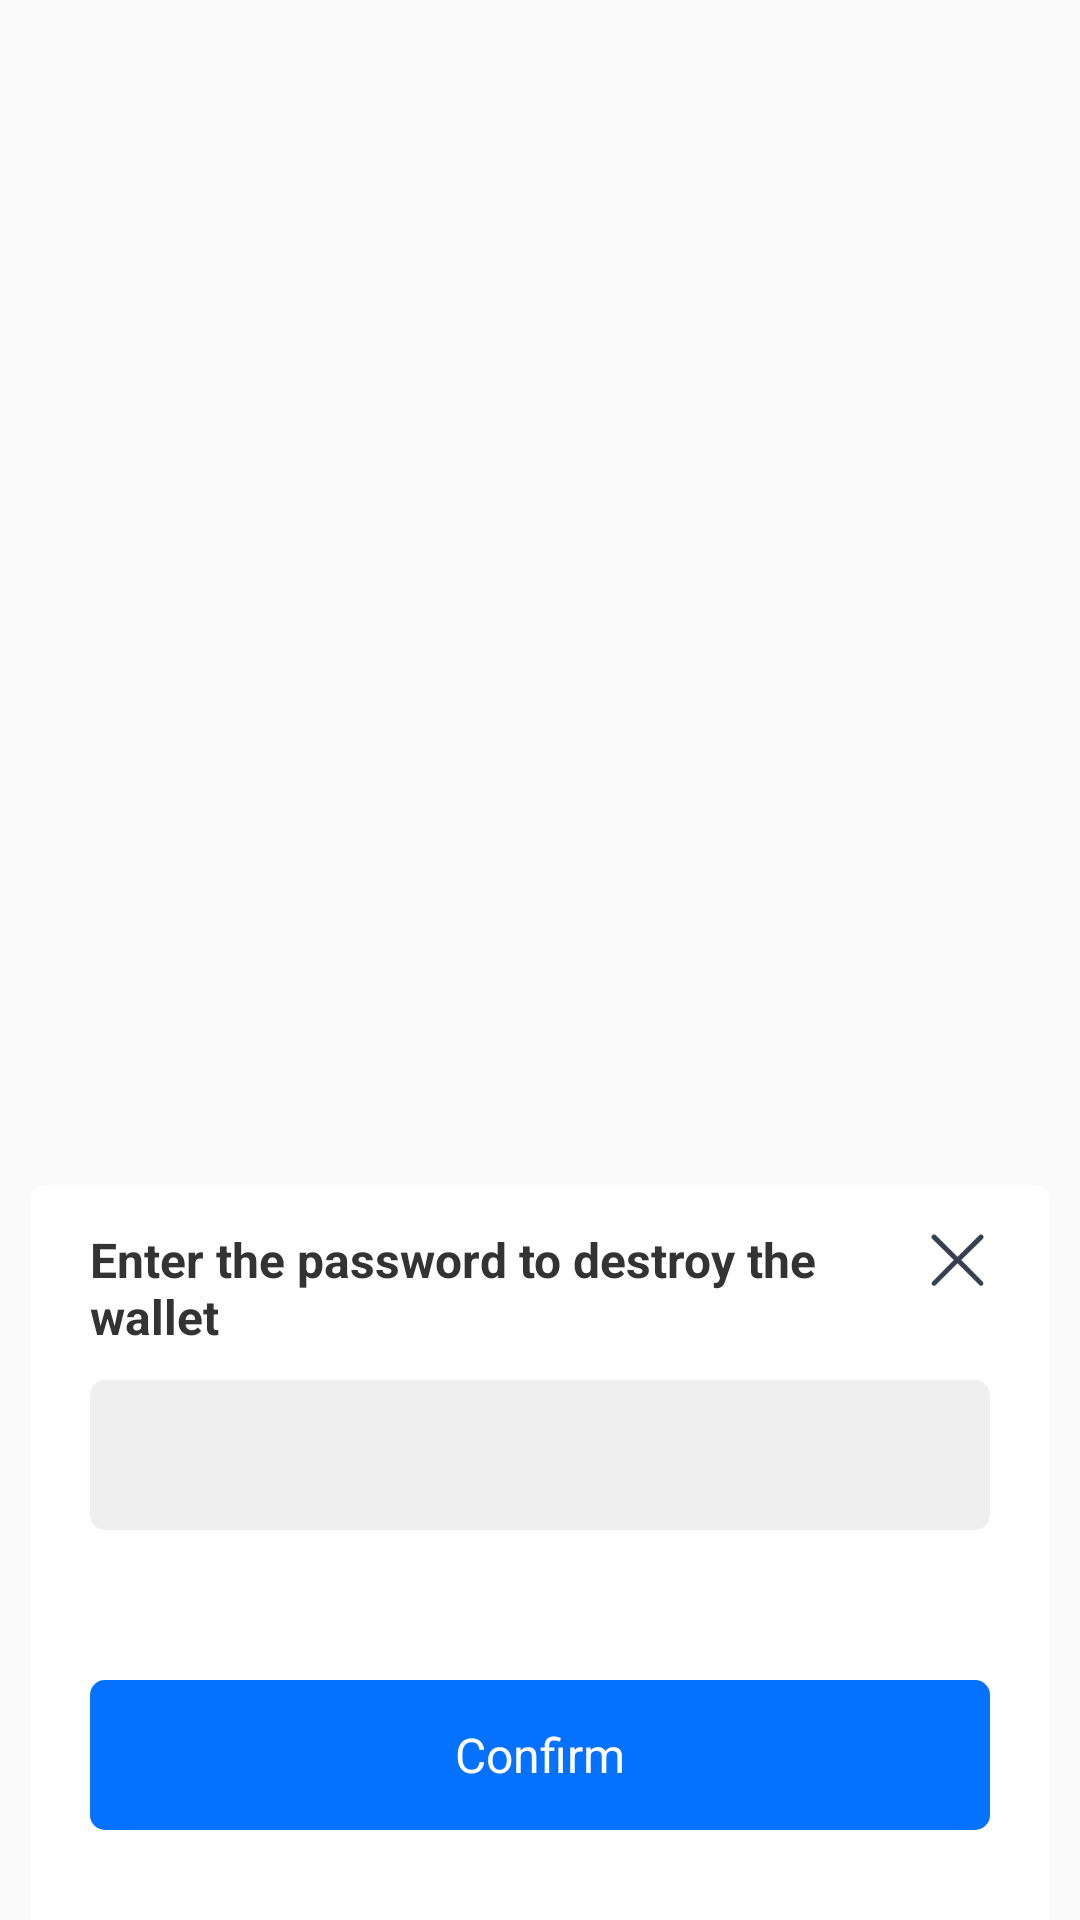

Icon click points for this 1080*1920 phone screenshot, format point (x, y):
close: point (957, 1260)
